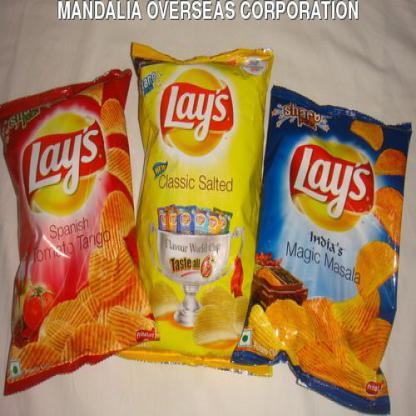potatochip: (226, 78, 415, 415), (111, 38, 277, 384), (0, 63, 164, 404)
